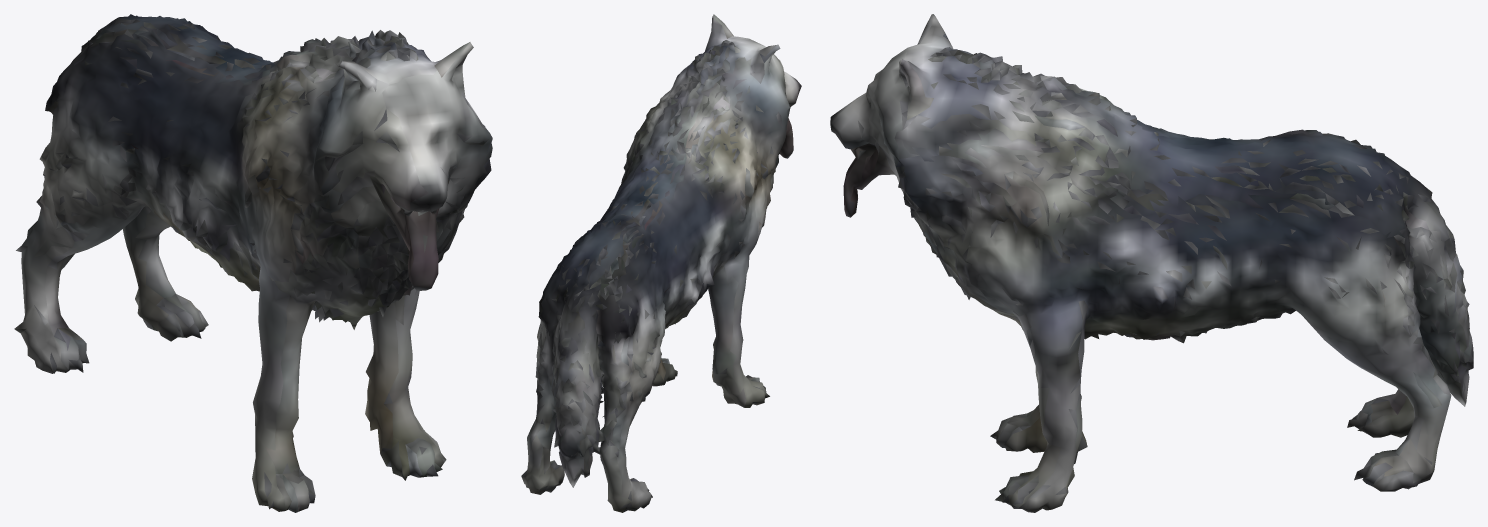
Rendered from Yolanda_final.glb.
3 views of the same model, side by side, from view 1: azimuth 30°, elevation 25°; view 2: azimuth 150°, elevation 25°; view 3: azimuth 270°, elevation 25° (orthographic). The views are drawn at different scales.
Parts seen in each view (by area): view 1: Mesh1.0; view 2: Mesh1.0; view 3: Mesh1.0.
Boxes of the visible parts, left/top/right/bottom form: Mesh1.0: left=14, top=14, right=492, bottom=512; Mesh1.0: left=521, top=14, right=801, bottom=512; Mesh1.0: left=830, top=14, right=1473, bottom=512.
Size of the model in its own units: 0.666 by 1.43 by 1.9.
1 material, 1 textured.
